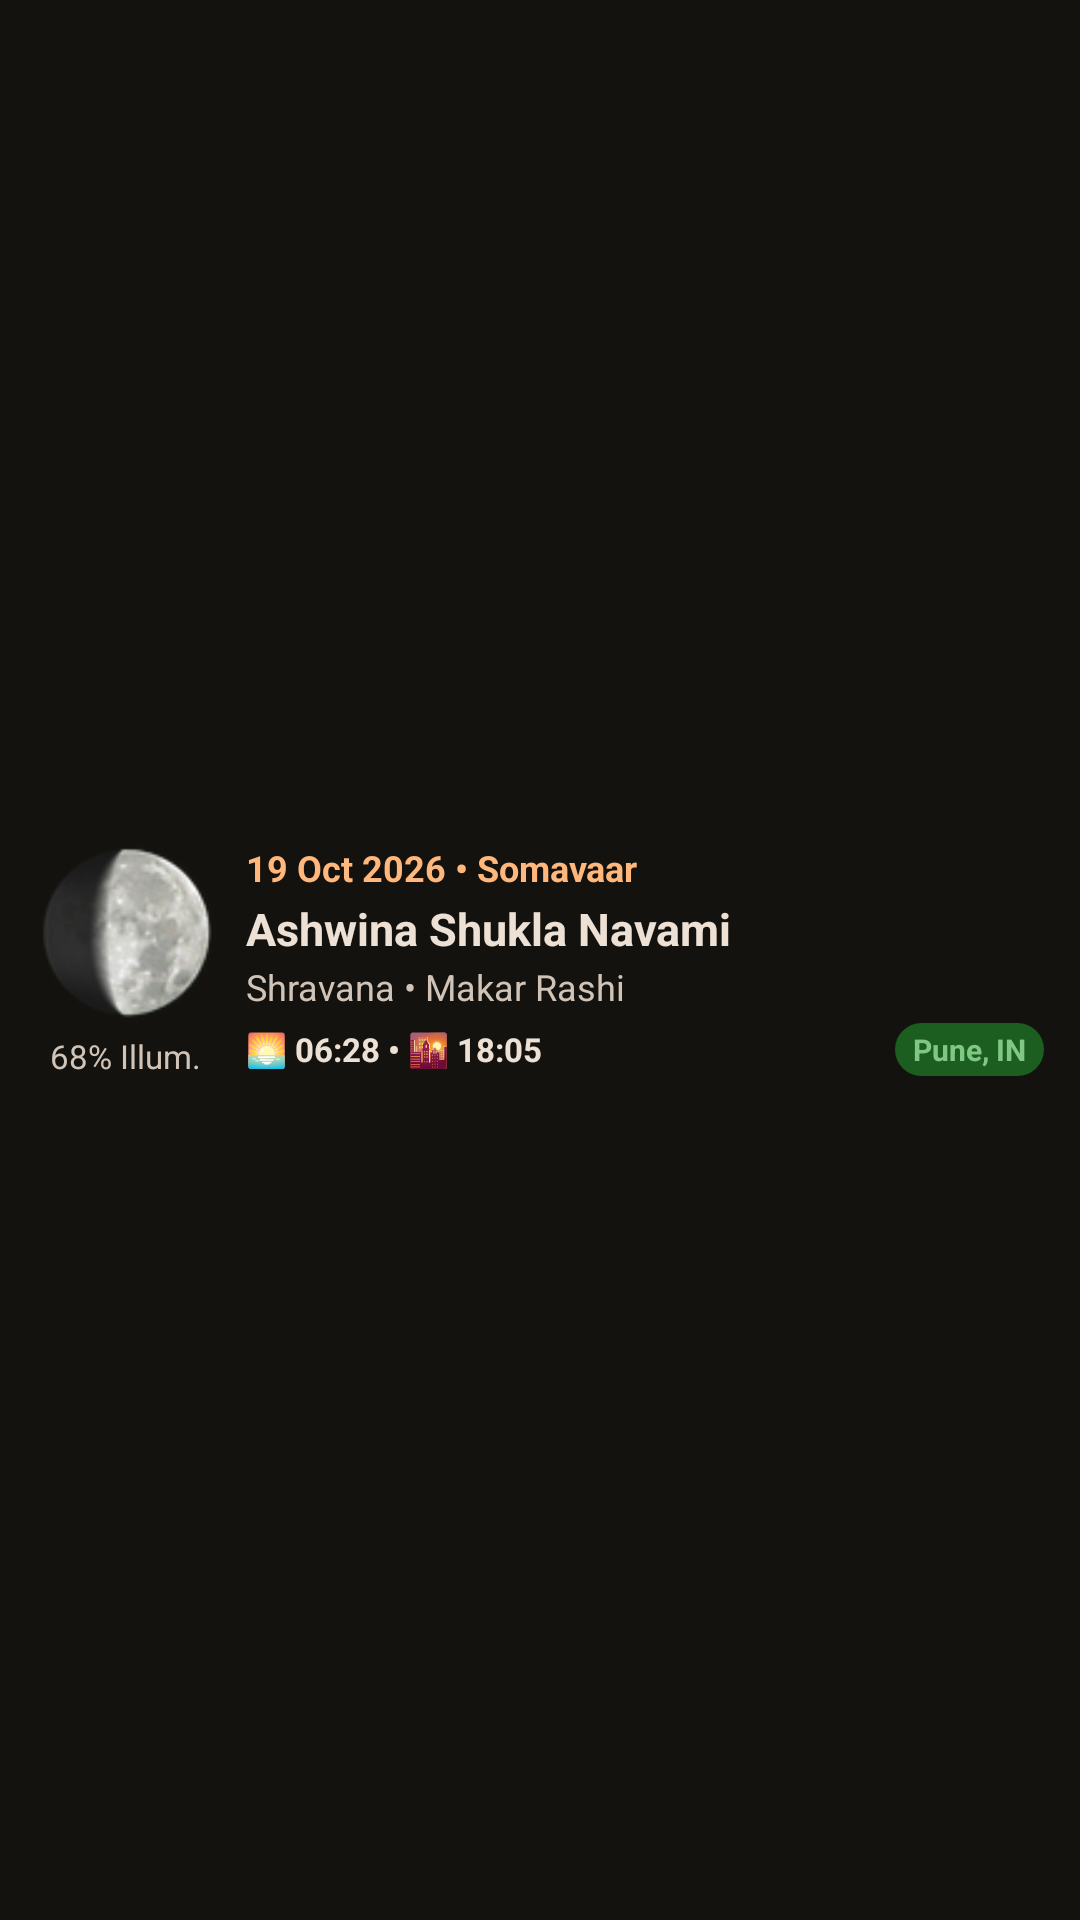

Locate icon controls on the screen. Image size 1080px×1920px, boxes as (x1, y1, x2, y2).
moon real: (44, 849, 211, 1017)
